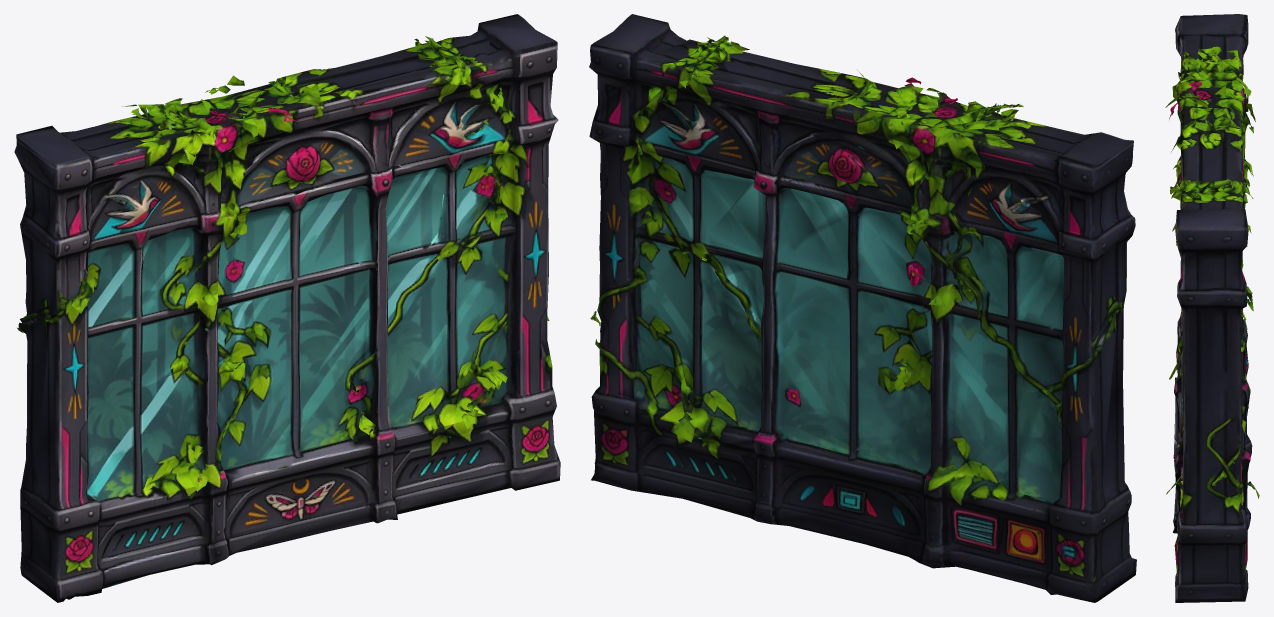
The model's file is GW_D04_glasshouse_wall.glb.
3 renders of one model, left to right at view 1: azimuth 30°, elevation 25°; view 2: azimuth 150°, elevation 25°; view 3: azimuth 270°, elevation 25°, orthographic. The views are drawn at different scales.
Parts seen in each view (by area): view 1: tripo_node_a6f3d8cf-881b-40da-a307-e0cedabacef6; view 2: tripo_node_a6f3d8cf-881b-40da-a307-e0cedabacef6; view 3: tripo_node_a6f3d8cf-881b-40da-a307-e0cedabacef6.
Boxes of the visible parts, left/top/right/bottom form: tripo_node_a6f3d8cf-881b-40da-a307-e0cedabacef6: left=14, top=14, right=560, bottom=602; tripo_node_a6f3d8cf-881b-40da-a307-e0cedabacef6: left=589, top=14, right=1136, bottom=602; tripo_node_a6f3d8cf-881b-40da-a307-e0cedabacef6: left=1165, top=14, right=1259, bottom=602.
Bounding box in the file's own units: 0.9936 × 0.8207 × 0.1817.
1 material, 1 textured.
